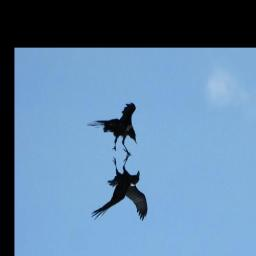Crow: (90, 151, 149, 222)
